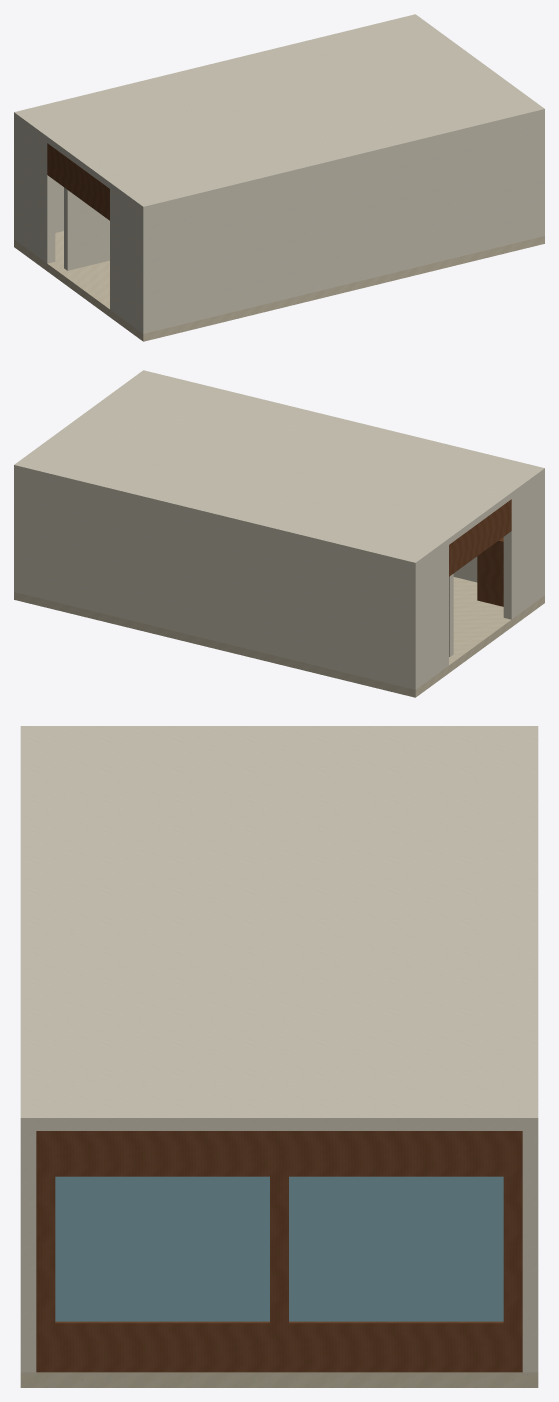
Rendered from TidalSpecialty.glb.
The picture shows the model from 3 angles, top to bottom: view 1: azimuth 30°, elevation 25°; view 2: azimuth 150°, elevation 25°; view 3: azimuth 270°, elevation 25°; orthographic projection. The views are drawn at different scales.
Parts seen in each view (by area): view 1: TN508_Ceiling, TN508_SouthWall, TN508_Floor, TN508_FrontWall_0, TN508_FrontWall_1, TN508_WashSouth_1, TN508_EntryLintel, TN508_NorthWall; view 2: TN508_Ceiling, TN508_NorthWall, TN508_Floor, TN508_FrontWall_1, TN508_FrontWall_0, TN508_EntryLintel, TN508_ServiceSide_-296.32, TN508_SouthWall, TN508_WashSouth_1; view 3: TN508_Ceiling, TN508_CourtGlass_0, TN508_CourtGlass_1, TN508_WestSill, TN508_WestHeader, TN508_Floor, TN508_NorthWall, TN508_SouthWall, TN508_WestPier_0, TN508_WestPier_2, TN508_WestPier_1.
Part boxes in pixels (bbox=[...]): TN508_Ceiling: bbox=[14, 14, 544, 213]; TN508_SouthWall: bbox=[139, 115, 544, 333]; TN508_Floor: bbox=[14, 231, 544, 341]; TN508_FrontWall_0: bbox=[18, 122, 55, 263]; TN508_FrontWall_1: bbox=[110, 189, 139, 330]; TN508_WashSouth_1: bbox=[64, 187, 109, 270]; TN508_EntryLintel: bbox=[47, 143, 109, 220]; TN508_NorthWall: bbox=[14, 119, 63, 241]; TN508_Ceiling: bbox=[14, 370, 544, 569]; TN508_NorthWall: bbox=[14, 471, 419, 689]; TN508_Floor: bbox=[14, 577, 544, 697]; TN508_FrontWall_1: bbox=[503, 478, 540, 619]; TN508_FrontWall_0: bbox=[419, 545, 448, 686]; TN508_EntryLintel: bbox=[449, 499, 511, 576]; TN508_ServiceSide_-296.32: bbox=[477, 540, 503, 605]; TN508_SouthWall: bbox=[453, 475, 544, 597]; TN508_WashSouth_1: bbox=[449, 574, 453, 656]; TN508_Ceiling: bbox=[20, 726, 538, 1130]; TN508_CourtGlass_0: bbox=[289, 1176, 503, 1321]; TN508_CourtGlass_1: bbox=[55, 1176, 269, 1321]; TN508_WestSill: bbox=[36, 1321, 522, 1372]; TN508_WestHeader: bbox=[36, 1131, 522, 1176]; TN508_Floor: bbox=[20, 1372, 538, 1387]; TN508_NorthWall: bbox=[522, 1131, 538, 1372]; TN508_SouthWall: bbox=[20, 1131, 36, 1372]; TN508_WestPier_0: bbox=[503, 1176, 522, 1323]; TN508_WestPier_2: bbox=[36, 1176, 55, 1323]; TN508_WestPier_1: bbox=[270, 1176, 288, 1323].
Bounding box in the file's own units: 12.9 × 4.14 × 7.2.
7 materials, 5 textured.
